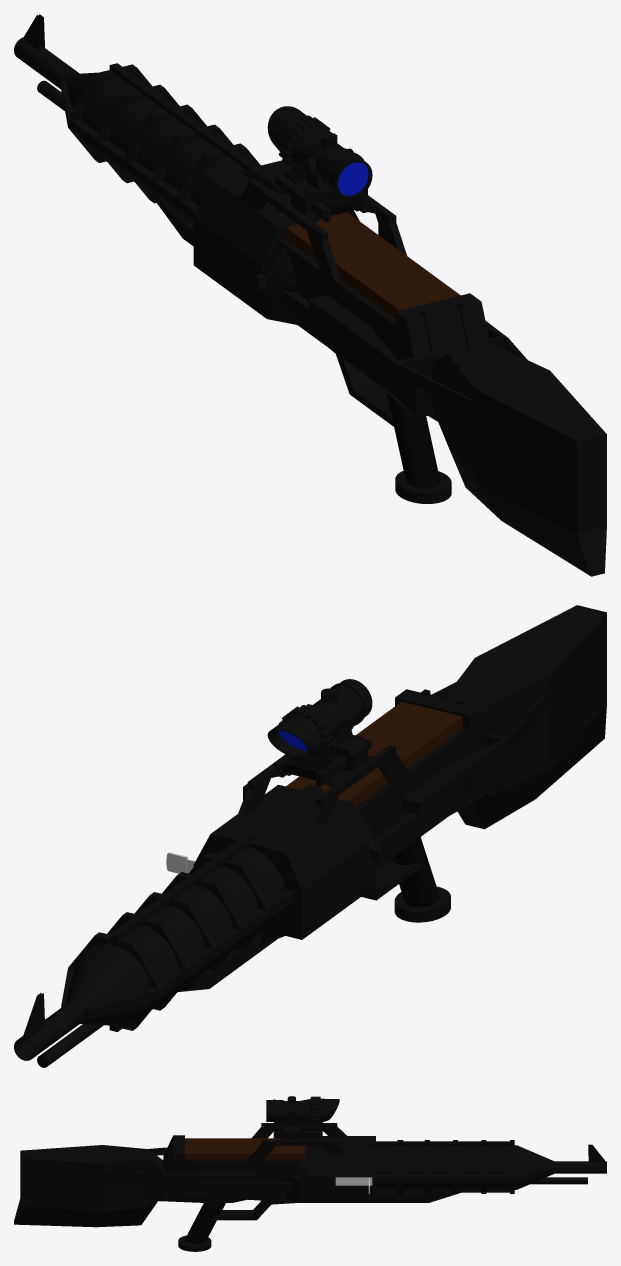
Rendered from BattleRifle.obj.
3 views of the same model, one above another, from view 1: azimuth 30°, elevation 25°; view 2: azimuth 150°, elevation 25°; view 3: azimuth 270°, elevation 25° (orthographic). The views are drawn at different scales.
Visible parts, largest first — view 1: Cylinder.002, Cube.001_Cube.002, Cylinder.061_Cylinder.043; view 2: Cylinder.002, Cylinder.061_Cylinder.043, Cube.001_Cube.002; view 3: Cylinder.002, Cube.001_Cube.002, Cylinder.061_Cylinder.043, Cube.005_Cube.004.
Part boxes in pixels (x1,y1,x2,y2): Cylinder.002: (14,14,606,576); Cube.001_Cube.002: (285,212,460,318); Cylinder.061_Cylinder.043: (267,106,372,215); Cylinder.002: (14,605,606,1067); Cylinder.061_Cylinder.043: (267,679,372,771); Cube.001_Cube.002: (286,701,462,806); Cylinder.002: (14,1121,606,1251); Cube.001_Cube.002: (185,1138,305,1159); Cylinder.061_Cylinder.043: (266,1096,339,1139); Cube.005_Cube.004: (335,1177,372,1194).
Bounding box in the file's own units: 9.02 × 16.49 × 59.78.
